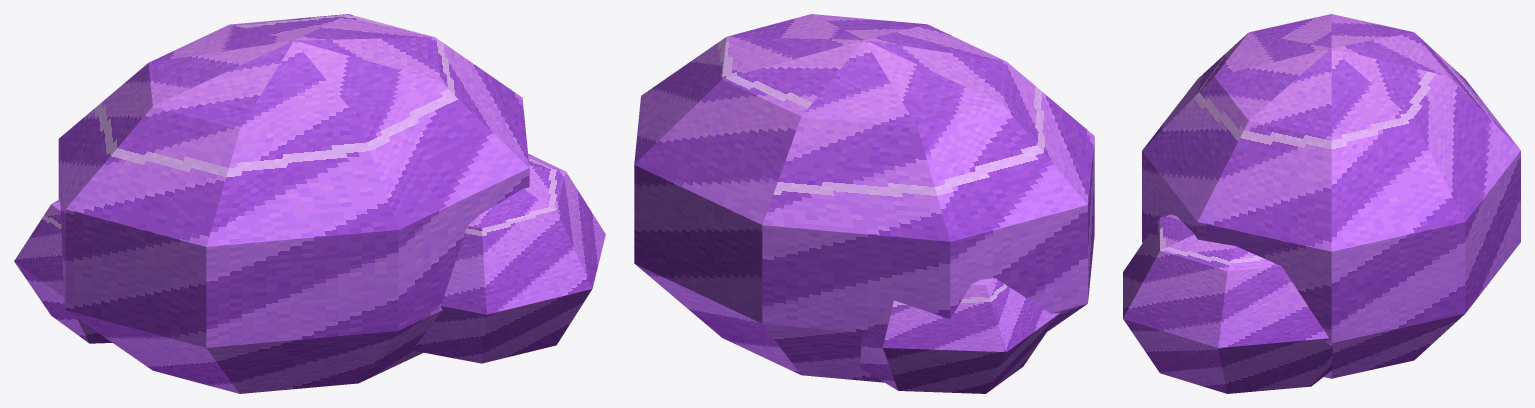
The model's file is entulho_de_ametista.glb.
3 renders of one model, left to right at view 1: azimuth 30°, elevation 25°; view 2: azimuth 150°, elevation 25°; view 3: azimuth 270°, elevation 25°, orthographic. The views are drawn at different scales.
Visible parts, largest first — view 1: entulho_de_ametista; view 2: entulho_de_ametista; view 3: entulho_de_ametista.
Part boxes in pixels (box(x1,y1,x2,y2)): entulho_de_ametista: box(14, 14, 605, 393); entulho_de_ametista: box(634, 14, 1094, 393); entulho_de_ametista: box(1123, 14, 1520, 393).
Size of the model in its own units: 1.21 by 0.7894 by 0.9604.
Materials: 1 (1 with a texture image).
